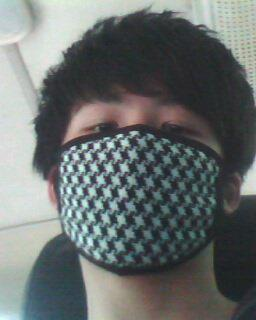OK: (55, 90, 226, 266)
